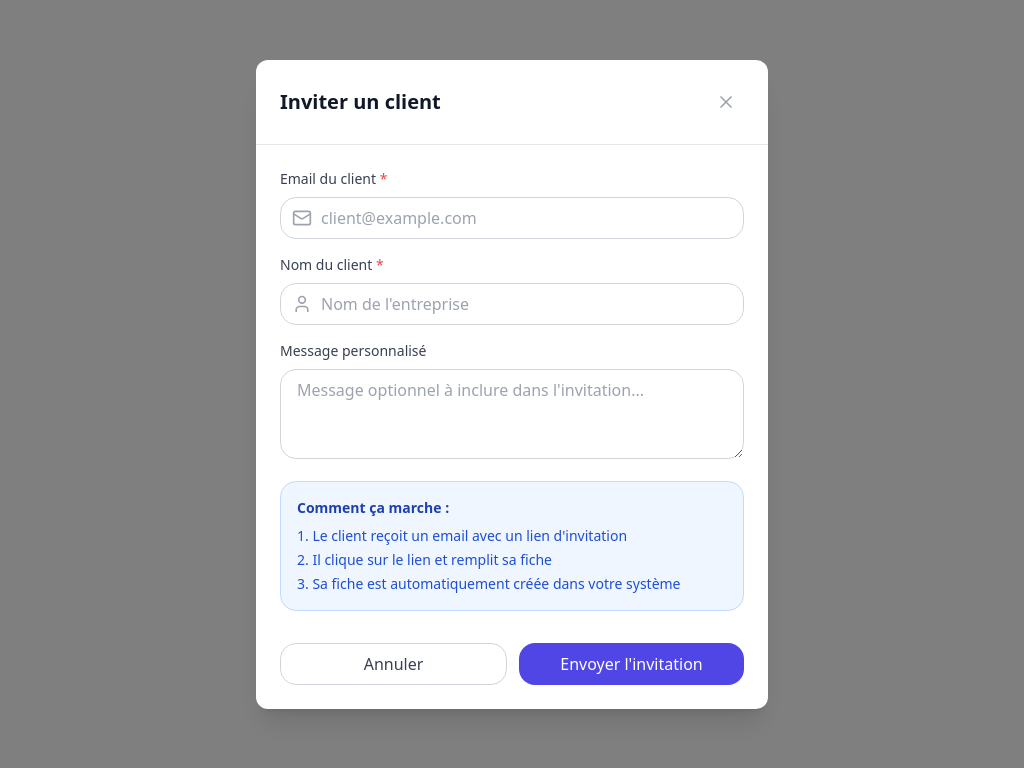
Test case: ClientInvitationModal › should show copied confirmation
In the field with placeholder "client@example.com": [512, 218] box [280,196,744,238], type "test@example.com"
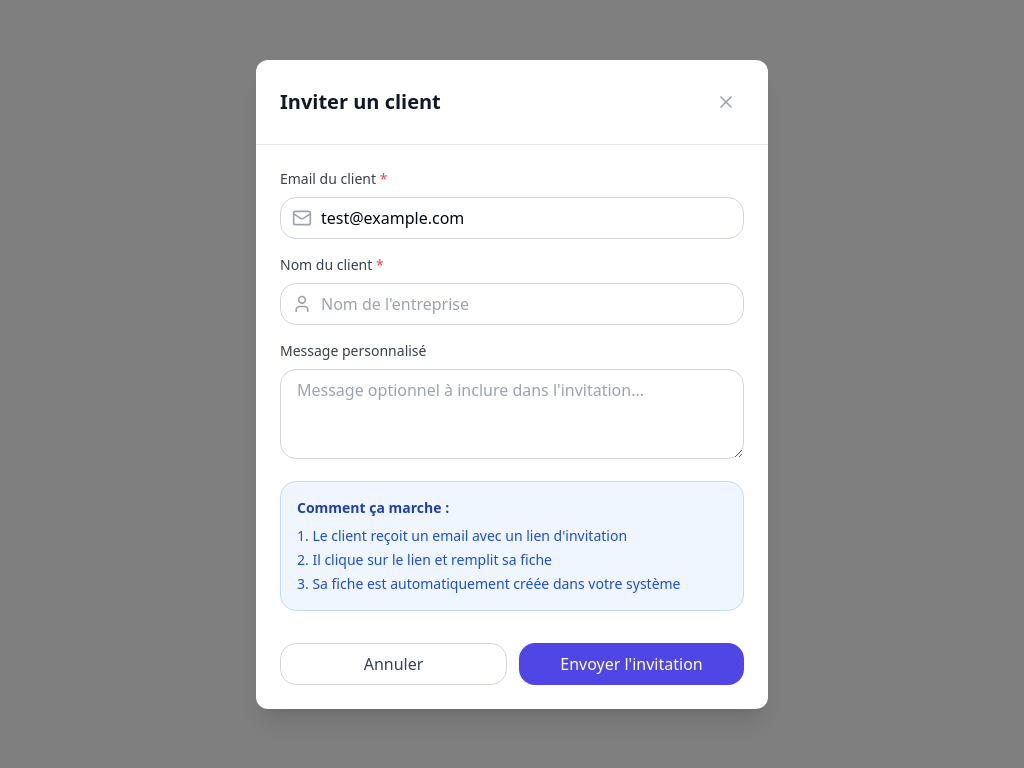
In the field with placeholder "Nom de l'entreprise": [512, 304] box [280,282,744,324], type "Test Company"
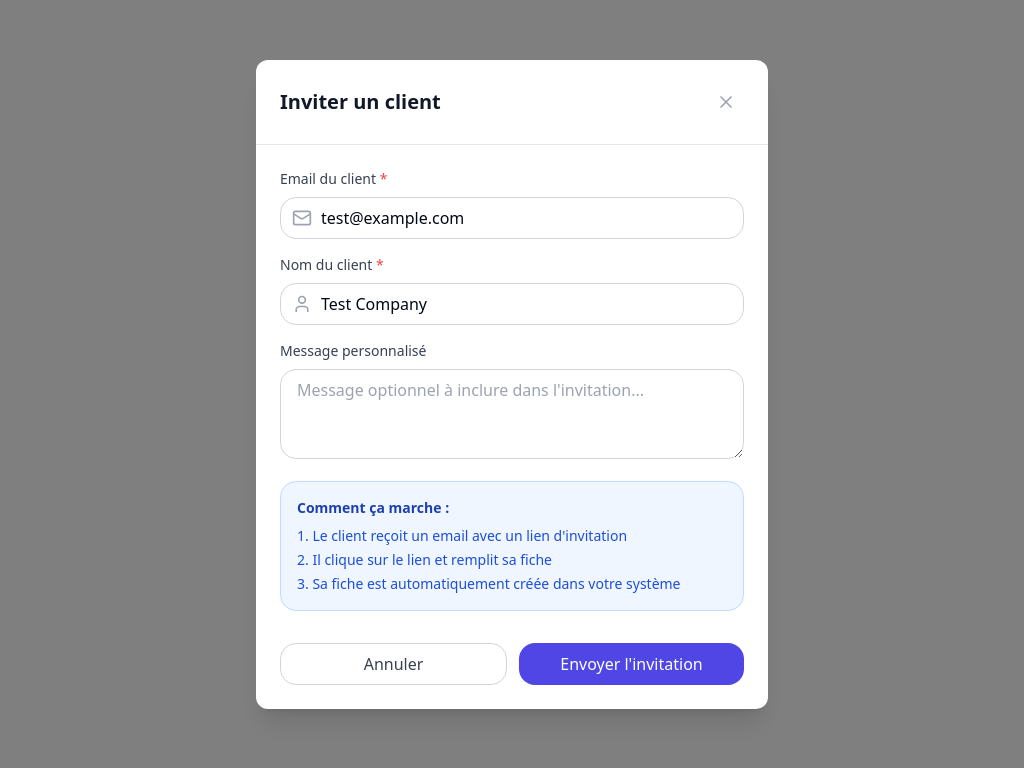
Click the button "Envoyer l'invitation": [632, 664] box [519,642,744,684]
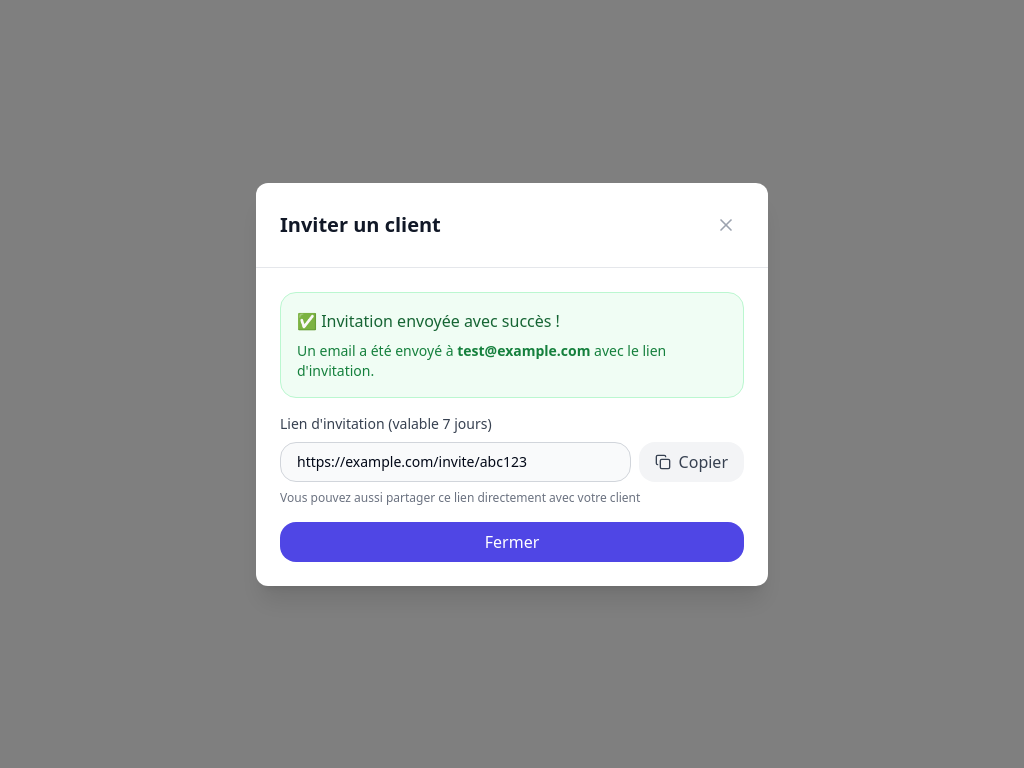
Click the button "Copier": [691, 462] box [639,442,744,482]
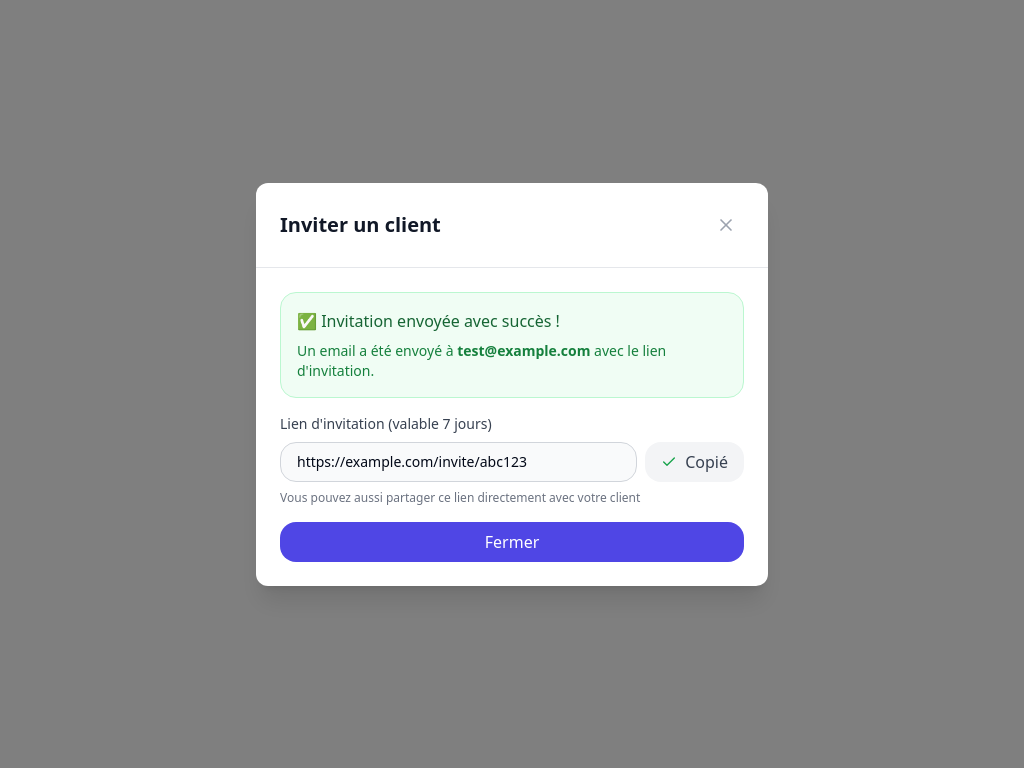
Result: the button "Copié" is shown at [645,442,744,482]
